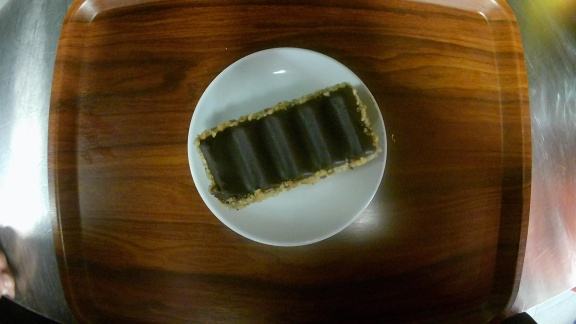muzlupasta: (187, 47, 388, 246)
